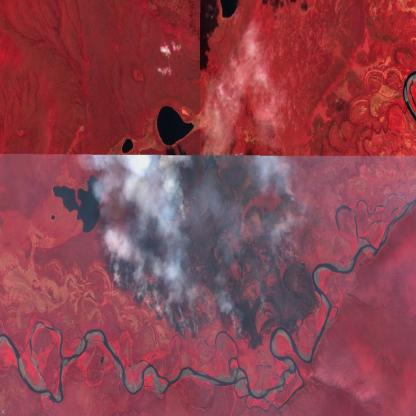fire: (102, 153, 308, 345)
